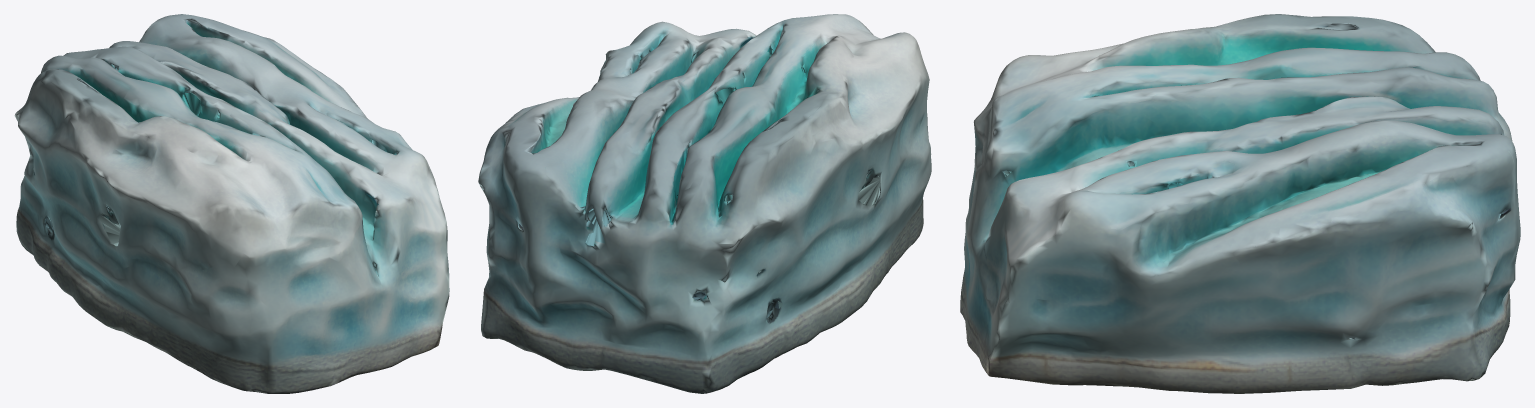
The picture shows the model from 3 angles, left to right: view 1: azimuth 30°, elevation 25°; view 2: azimuth 150°, elevation 25°; view 3: azimuth 270°, elevation 25°; orthographic projection. The views are drawn at different scales.
Visible parts, largest first — view 1: world; view 2: world; view 3: world.
Boxes of the visible parts, <box> form: world: <box>14,14,449,393</box>; world: <box>478,14,931,393</box>; world: <box>960,14,1520,393</box>.
Bounding box in the file's own units: 20.75 × 14.68 × 30.
Materials: 1 (1 with a texture image).
